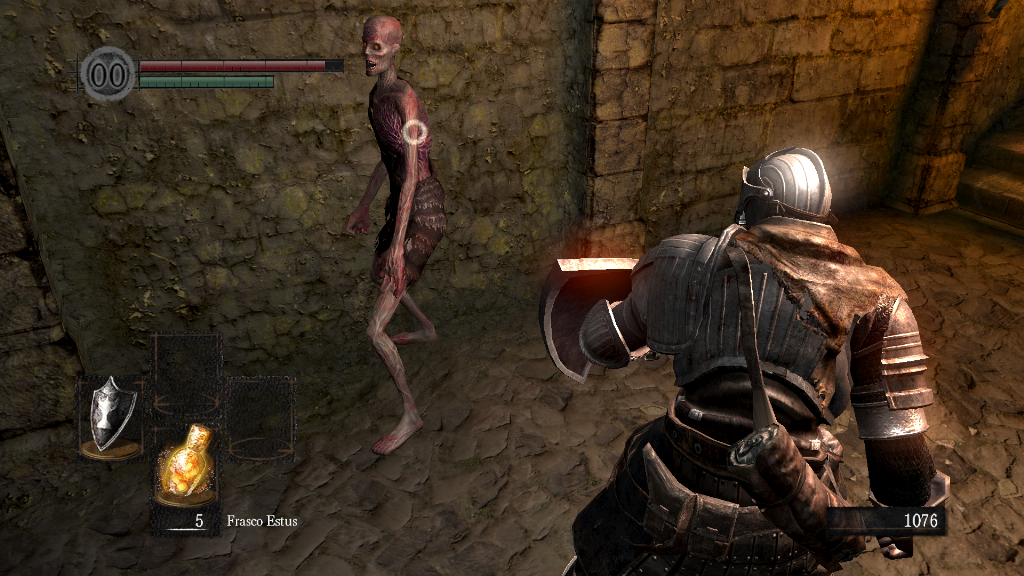health: (138, 58, 343, 71)
hollow: (343, 14, 445, 456)
humanity: (80, 45, 136, 102)
player: (540, 149, 954, 576)
souls: (825, 506, 945, 536)
stamina: (138, 74, 274, 88)
